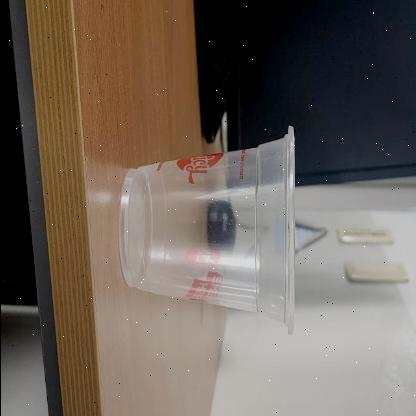Others: (118, 124, 296, 336)
